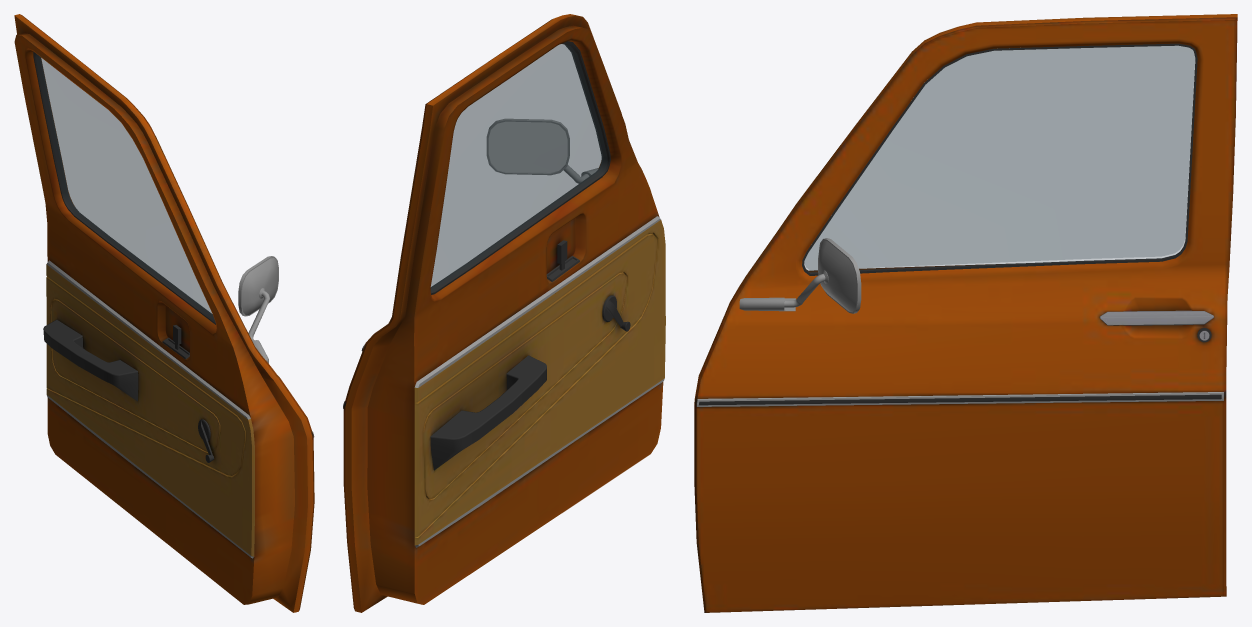
Rendered from renault6_door.glb.
The picture shows the model from 3 angles, left to right: view 1: azimuth 30°, elevation 25°; view 2: azimuth 150°, elevation 25°; view 3: azimuth 270°, elevation 25°; orthographic projection. The views are drawn at different scales.
Parts seen in each view (by area): view 1: renault6_door; view 2: renault6_door; view 3: renault6_door.
Boxes of the visible parts, <box> form: renault6_door: <box>14,14,314,612</box>; renault6_door: <box>343,14,665,612</box>; renault6_door: <box>694,14,1237,612</box>.
Size of the model in its own units: 0.7549 by 2.82 by 2.48.
4 materials, 3 textured.
